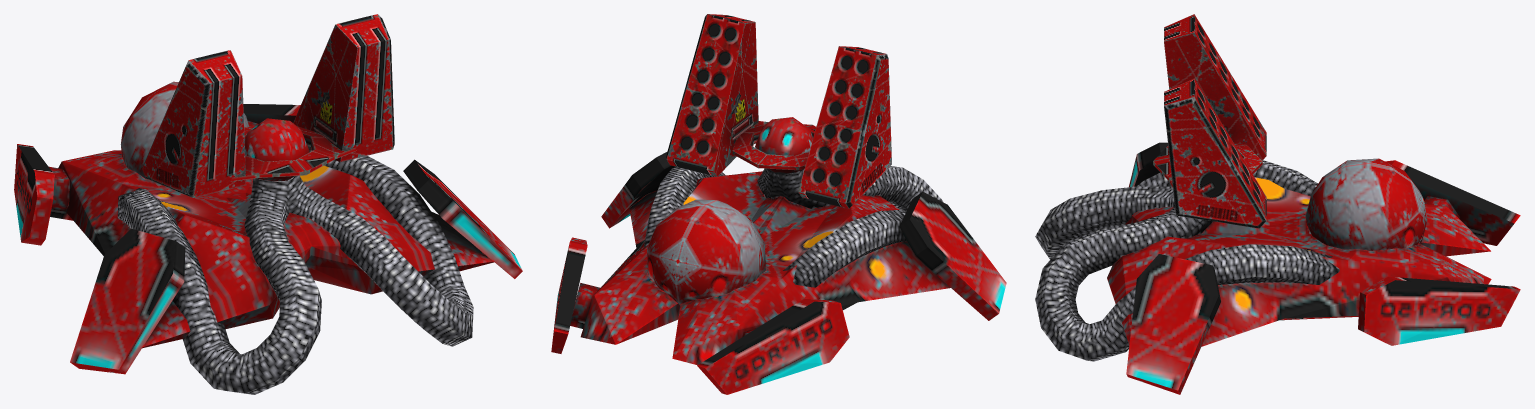
Rendered from cottus_rktlauncher.DAE.
3 views of the same model, side by side, from view 1: azimuth 30°, elevation 25°; view 2: azimuth 150°, elevation 25°; view 3: azimuth 270°, elevation 25° (orthographic). The views are drawn at different scales.
Visible parts, largest first — view 1: GeoSphere05, Tube03; view 2: GeoSphere05, Tube03; view 3: GeoSphere05, Tube03.
Boxes of the visible parts, <box> form: GeoSphere05: <box>14,81,522,394</box>; Tube03: <box>142,14,394,197</box>; GeoSphere05: <box>551,117,1006,394</box>; Tube03: <box>666,14,891,208</box>; GeoSphere05: <box>1035,142,1520,394</box>; Tube03: <box>1153,14,1266,228</box>.
Size of the model in its own units: 75.6 by 79.55 by 46.32.
Materials: 2 (2 with a texture image).
